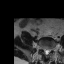CCS_normal: (46, 48, 47, 56)
LFS_normal: (49, 47, 52, 53)
LLS_normal: (47, 47, 49, 54)
RFS_normal: (41, 45, 44, 51)
RLS_normal: (44, 47, 46, 54)
